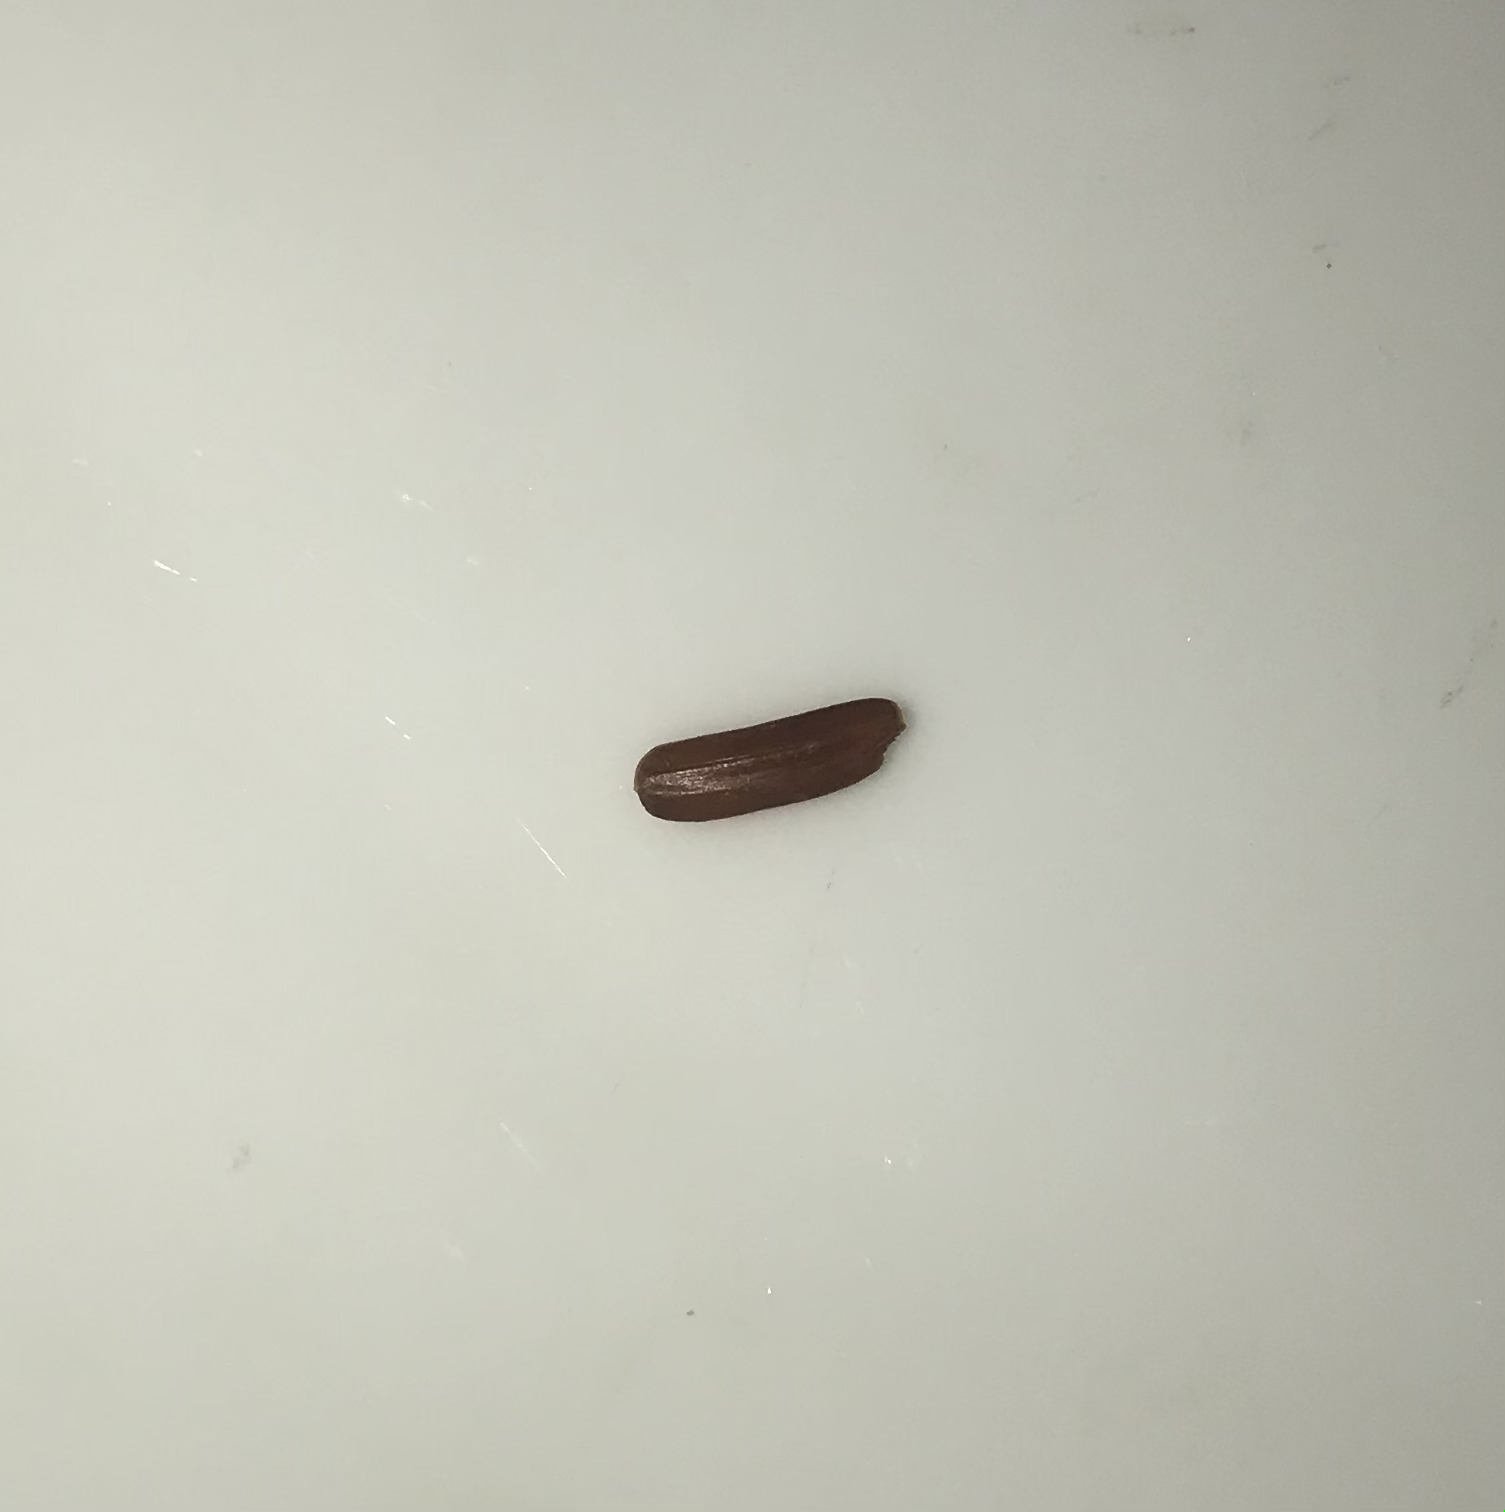Gao Huyet Rong: (633, 695, 914, 820)
